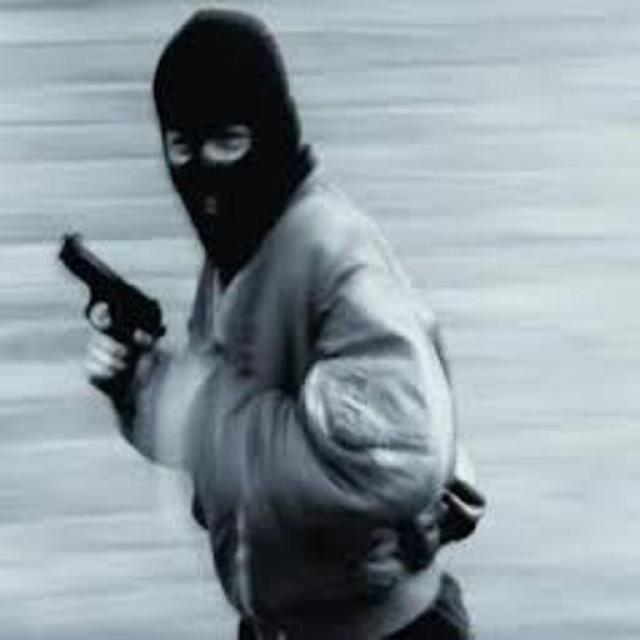pistol: (56, 225, 164, 405)
